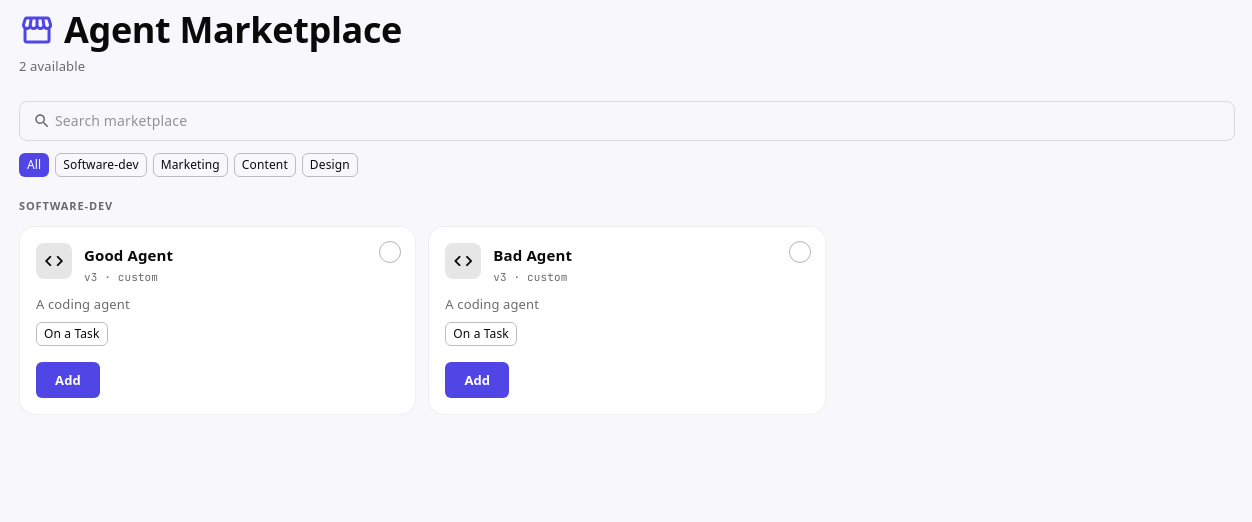
it: Marketplace page › addSelected — partial failure: names the failures and stays on the page
The image size is (1252, 522).
Expected: the text "Good Agent" is shown, [84,245,173,265]
Step 1. Click the checkbox named "Select Good Agent" → (390,252), box [379,241,401,263]
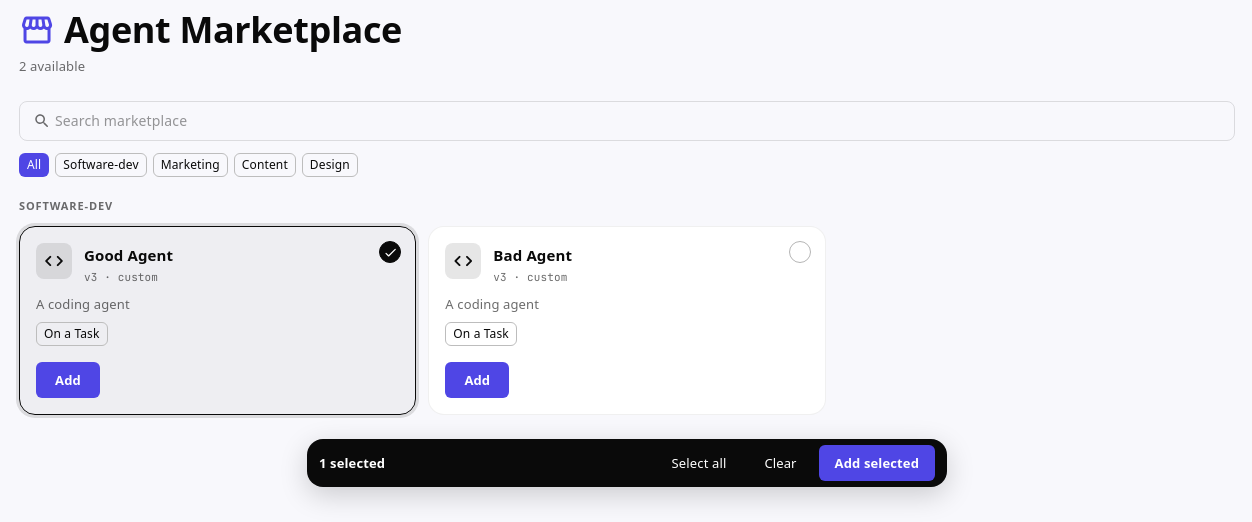
Step 2. Click the checkbox named "Select Bad Agent" → (800,252), box [789,241,811,263]
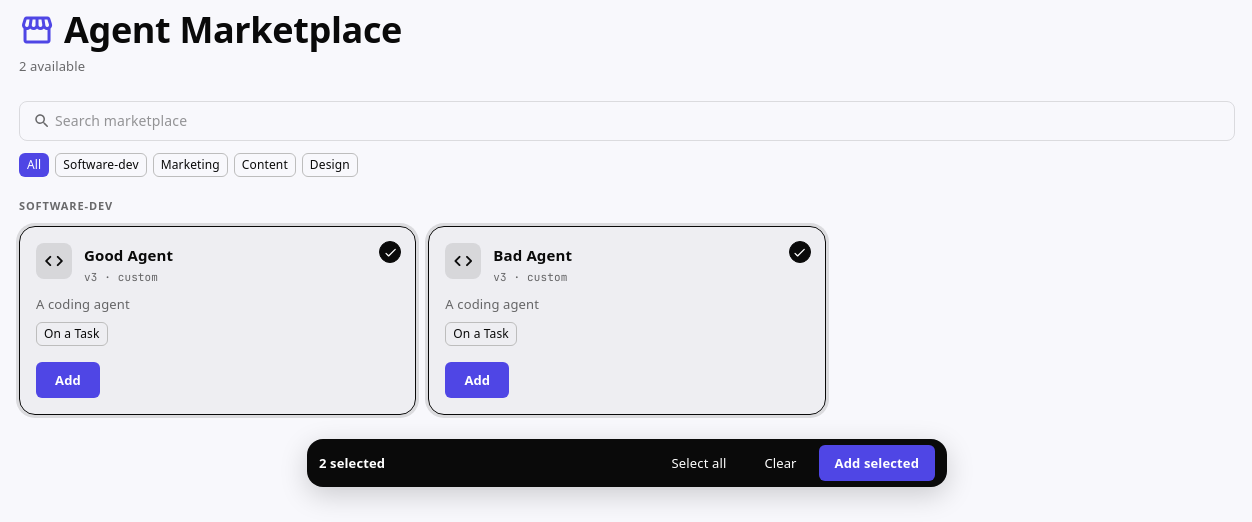
Step 3. Click the button "Add selected" → (877,463), box [819,445,935,481]
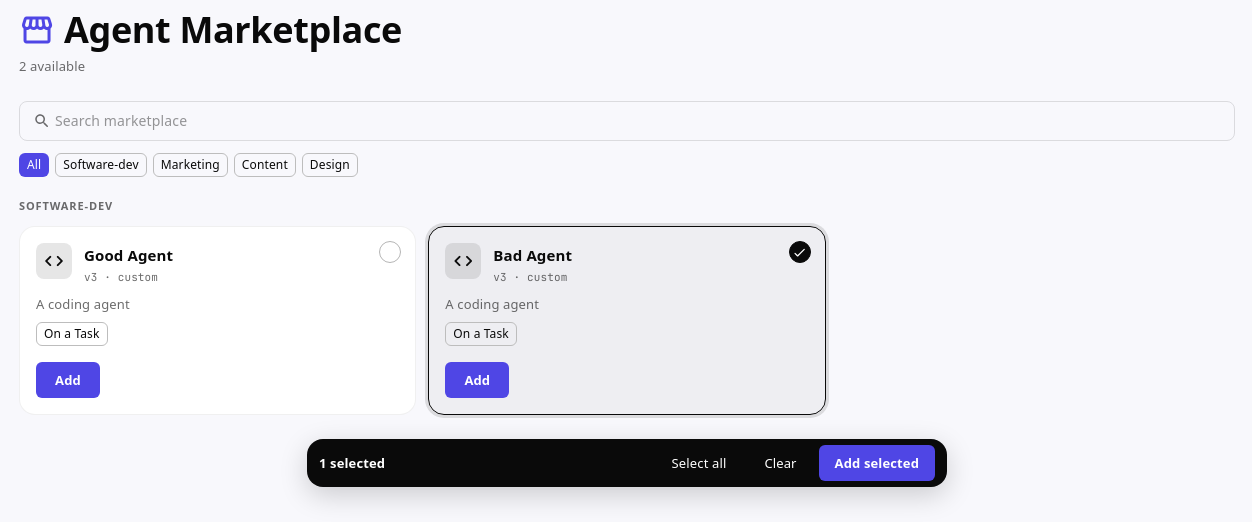
Now the text "1 selected" is shown, box [319,454,385,472]
